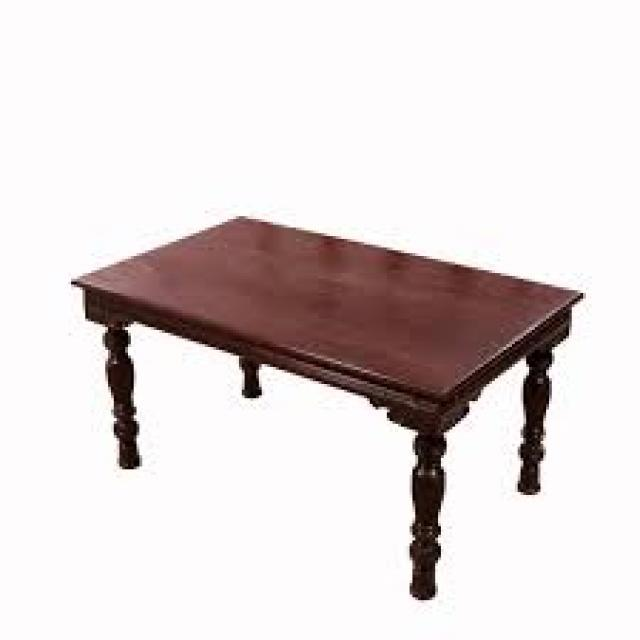mobile-phone: (72, 216, 586, 601)
